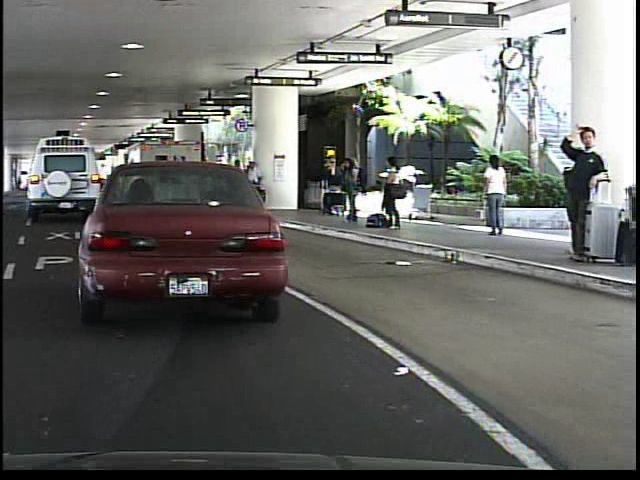person: (555, 118, 608, 264), (476, 154, 514, 238), (375, 154, 402, 230)
